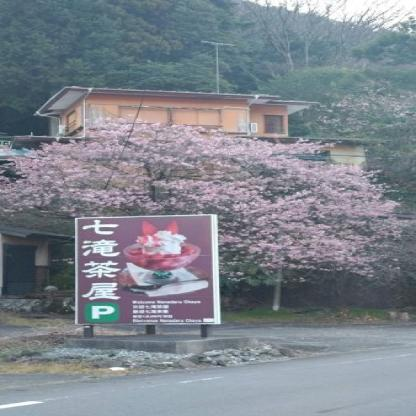KawazuSakura: (0, 98, 395, 274)
